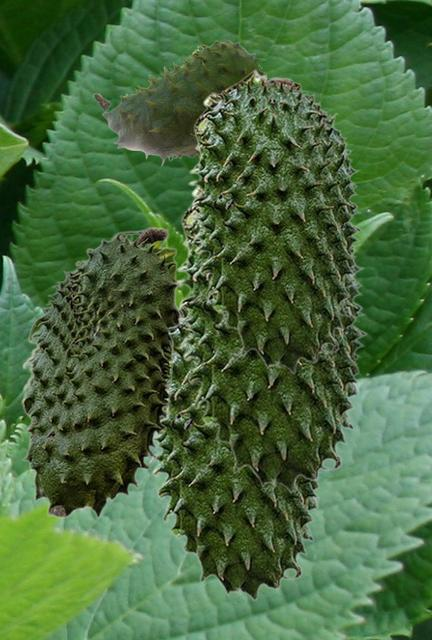guyabano: (175, 187, 367, 492), (188, 68, 362, 373), (147, 309, 325, 600), (20, 226, 182, 518), (93, 40, 267, 165)
